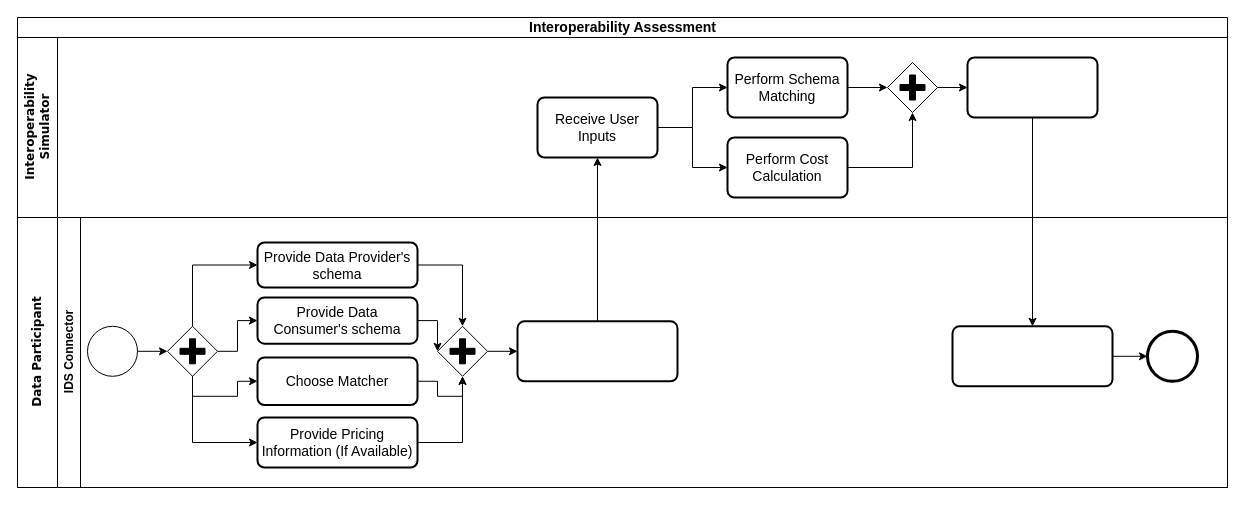
This 1245x505 diagram has some shape labels left out. The shapes that lost their labels are listed below. From the top down, each one's box as (x1, y1, x2, y2) in pixels, then its label:
(966, 56, 1098, 118): Show Interoperability Assessment Results
(86, 325, 138, 376): Start
(516, 320, 678, 382): Send User Inputs to Interoperability Simulator
(951, 325, 1113, 387): Receive Interoperability Assessment Results
(1146, 330, 1198, 381): Interoperability Assessment Finished
